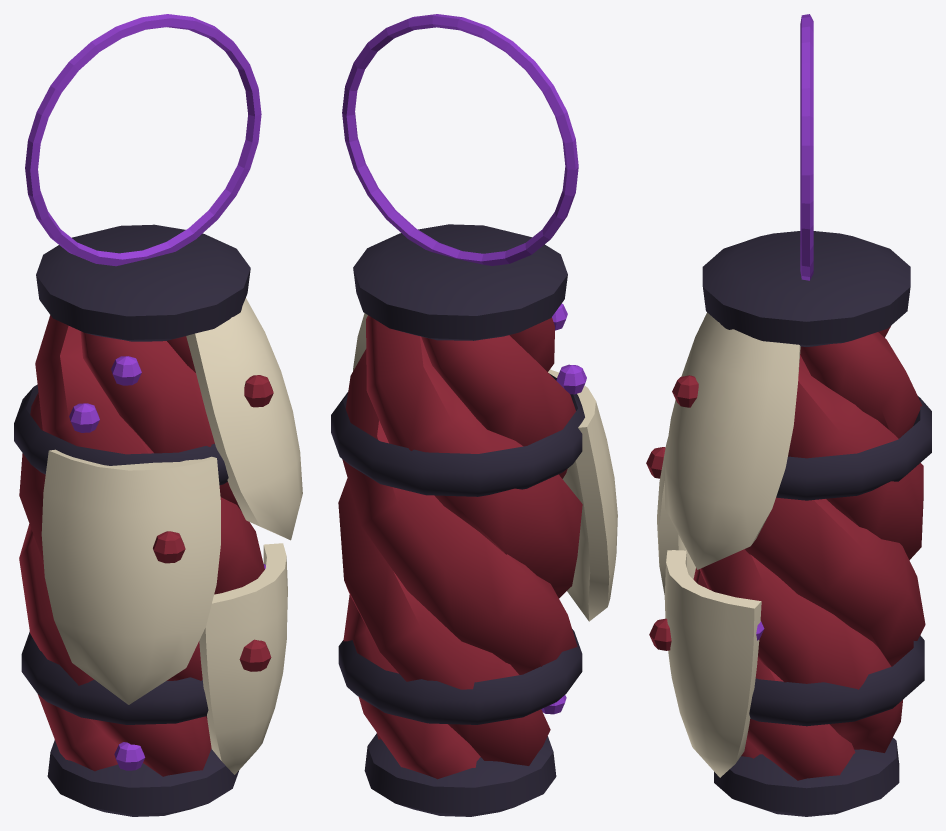
Rendered from Kit_Limb_AoeSinew_L.glb.
The picture shows the model from 3 angles, left to right: view 1: azimuth 30°, elevation 25°; view 2: azimuth 150°, elevation 25°; view 3: azimuth 270°, elevation 25°; orthographic projection.
Visible parts, largest first — view 1: Kit_Limb_AoeSinew_L; view 2: Kit_Limb_AoeSinew_L; view 3: Kit_Limb_AoeSinew_L.
Boxes of the visible parts, left/top/right/bottom form: Kit_Limb_AoeSinew_L: left=14, top=14, right=302, bottom=816; Kit_Limb_AoeSinew_L: left=331, top=14, right=617, bottom=816; Kit_Limb_AoeSinew_L: left=646, top=14, right=931, bottom=816.
Bounding box in the file's own units: 0.1443 × 0.4318 × 0.1468.
